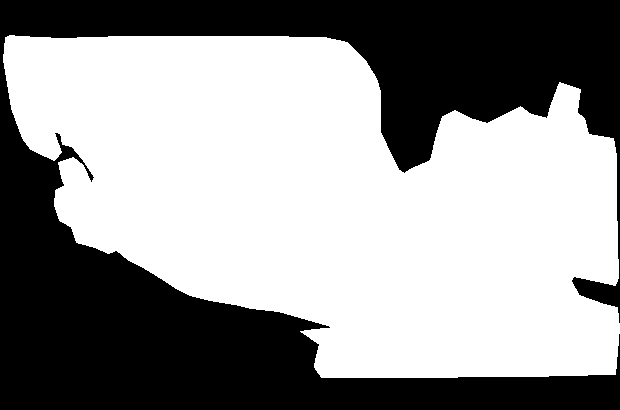type2: (2, 32, 619, 378)
